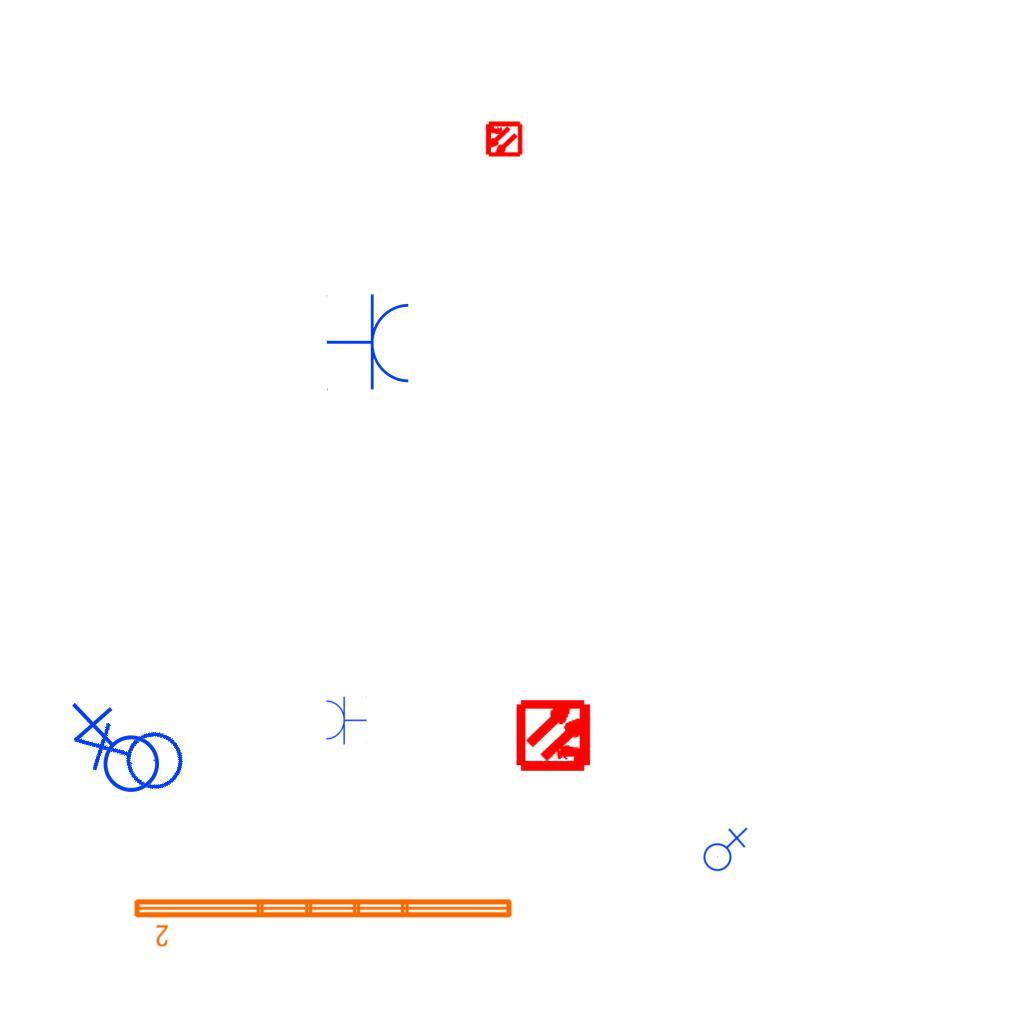Ambulanz_Pendelleuchte_LED: (130, 893, 517, 949)
Elektroanschluss_allgemein_230V_Geraeteanschlussdose_230V: (67, 692, 200, 826), (67, 702, 161, 801), (699, 825, 748, 872)
OT_Multisensormelder_(Kombination_RMO_WMD): (499, 679, 612, 792), (475, 111, 531, 167)
Schukosteckdose_einfach: (326, 293, 413, 393), (324, 695, 367, 745)
